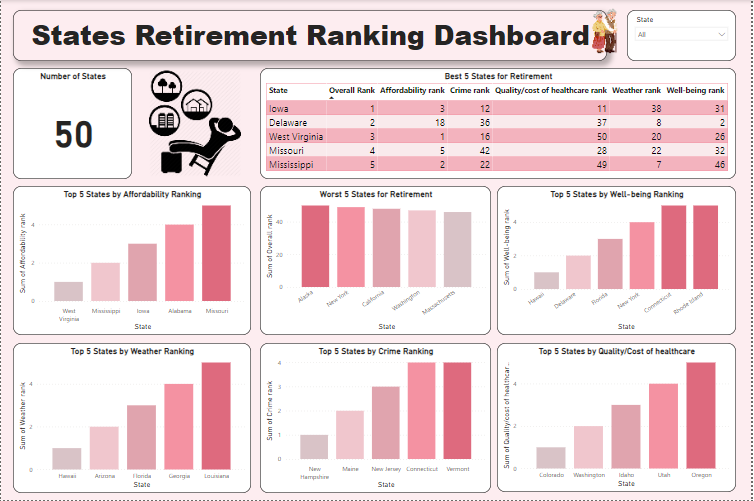

The page's visual inventory and layout, read from the dashboard file:
{"tool":"powerbi","page":{"name":"Page 1","canvas":[1500,1000],"ordinal":0},"visuals":[{"type":"clusteredColumnChart","title":"Top 5 States by Affordability Ranking","fields":{"Category":["RetirementData.State"],"Y":["Sum(RetirementData.Affordability rank)"]},"box":[24,372,476,298],"z":1000},{"type":"columnChart","title":"Top 5 States by Well-being Ranking","fields":{"Category":["RetirementData.State"],"Y":["Sum(RetirementData.Well-being rank)"]},"box":[992,372,478,298],"z":2000},{"type":"columnChart","title":"Top 5 States by Quality/Cost of healthcare","fields":{"Category":["RetirementData.State"],"Y":["Sum(RetirementData.Quality/cost of healthcare rank)"]},"box":[992,686,478,298],"z":3000},{"type":"columnChart","title":"Top 5 States by Weather Ranking","fields":{"Category":["RetirementData.State"],"Y":["Sum(RetirementData.Weather rank)"]},"box":[24,686,476,300],"z":4000},{"type":"columnChart","title":"Top 5 States by Crime Ranking","fields":{"Category":["RetirementData.State"],"Y":["Sum(RetirementData.Crime rank)"]},"box":[518,686,462,300],"z":5000},{"type":"columnChart","title":"Worst 5 States for Retirement","fields":{"Category":["RetirementData.State"],"Y":["Sum(RetirementData.Overall rank)"]},"box":[518,372,462,298],"z":6000},{"type":"tableEx","title":"Best 5 States for Retirement","fields":{"Values":["RetirementData.State","Sum(RetirementData.Overall rank)","Sum(RetirementData.Affordability rank)","Sum(RetirementData.Crime rank)","Sum(RetirementData.Quality/cost of healthcare rank)","Sum(RetirementData.Weather rank)","Sum(RetirementData.Well-being rank)"]},"box":[548,174,952,222],"z":7000},{"type":"card","title":"Number of States","fields":{"Values":["RetirementData.NumOfStates"]},"box":[24,136,238,222],"z":8000},{"type":"slicer","fields":{"Values":["RetirementData.State"]},"box":[1252,20,218,102],"z":9000},{"type":"textbox","box":[24,20,1188,102],"z":10000},{"type":"image","box":[1104,0,202,122],"z":11000},{"type":"image","box":[276,136,224,222],"z":12000}]}

Visuals, with their boxes in screenshot pixels (x1, y1, x2, y2), scaled from the page's 1500x1000 canvas onto the 754x501 screenshot:
"Top 5 States by Affordability Ranking" clusteredColumnChart: rect(12, 186, 251, 336)
"Top 5 States by Well-being Ranking" columnChart: rect(499, 186, 739, 336)
"Top 5 States by Quality/Cost of healthcare" columnChart: rect(499, 344, 739, 493)
"Top 5 States by Weather Ranking" columnChart: rect(12, 344, 251, 494)
"Top 5 States by Crime Ranking" columnChart: rect(260, 344, 493, 494)
"Worst 5 States for Retirement" columnChart: rect(260, 186, 493, 336)
"Best 5 States for Retirement" tableEx: rect(275, 87, 753, 198)
"Number of States" card: rect(12, 68, 132, 179)
slicer - RetirementData.State: rect(629, 10, 739, 61)
textbox: rect(12, 10, 609, 61)
image: rect(555, 0, 656, 61)
image: rect(139, 68, 251, 179)
